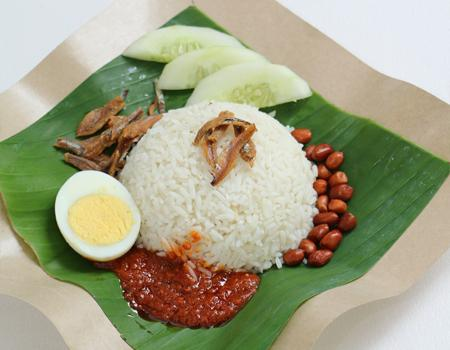Anchovies: (55, 89, 159, 173), (196, 111, 257, 182)
Boiled-Egg: (54, 171, 142, 264)
Cucumber: (123, 29, 312, 108)
Peanuts: (282, 131, 356, 265)
Rice: (119, 103, 316, 272)
Sambal: (115, 247, 259, 329)
